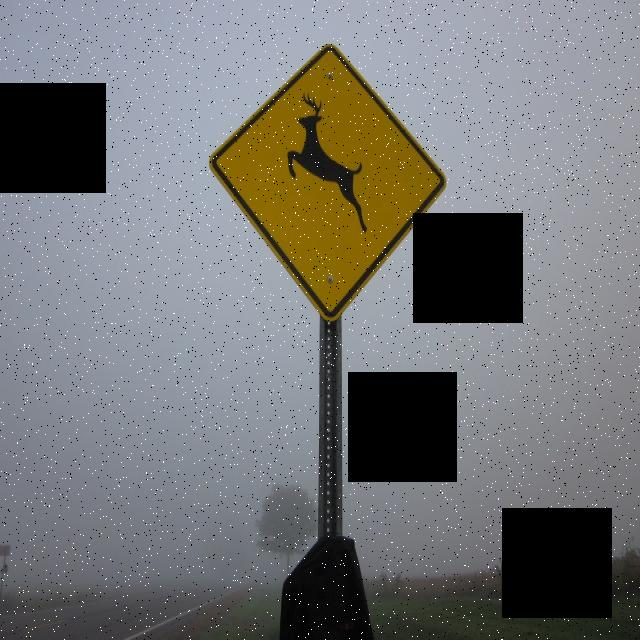warning: (210, 45, 446, 319)
